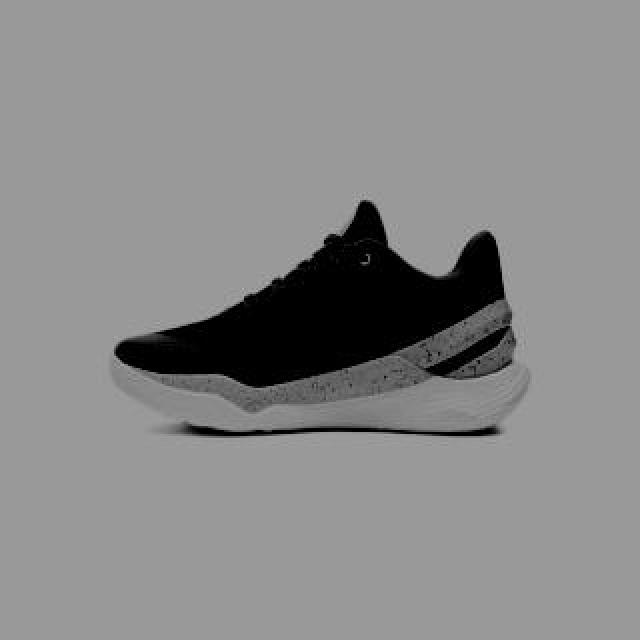shoe: (114, 201, 530, 433)
